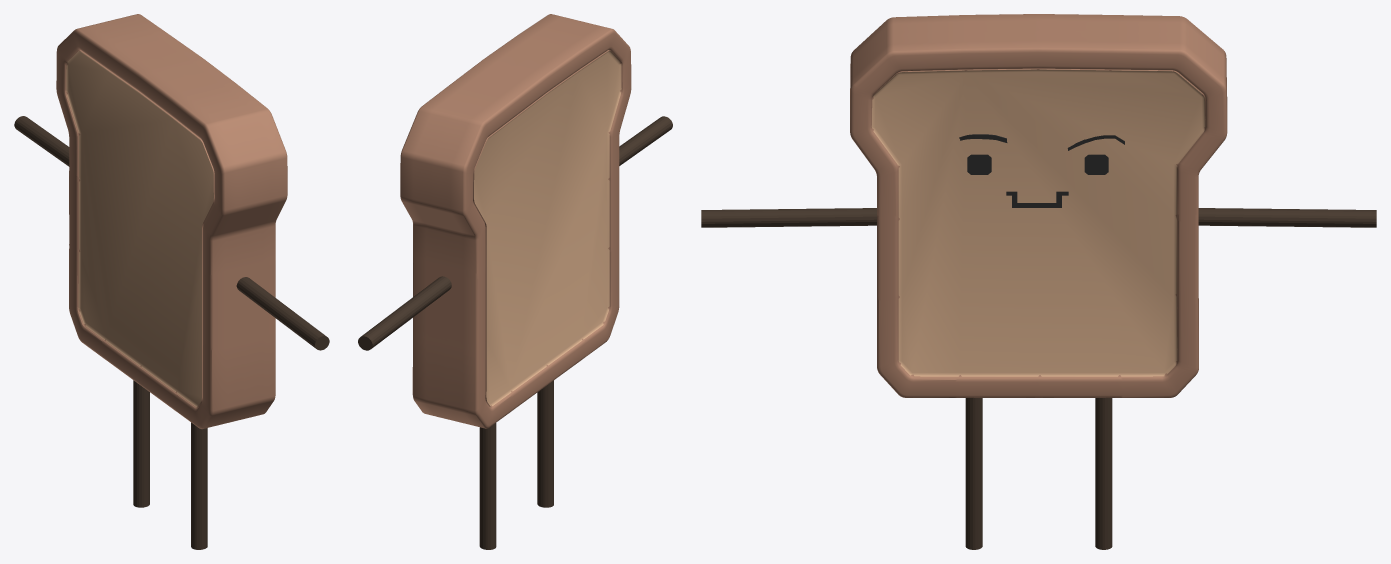
The model's file is tost_a.glb.
3 renders of one model, left to right at view 1: azimuth 30°, elevation 25°; view 2: azimuth 150°, elevation 25°; view 3: azimuth 270°, elevation 25°, orthographic. The views are drawn at different scales.
Parts seen in each view (by area): view 1: tost, Cylinder, Cylinder.001, Cylinder.002; view 2: tost, Cylinder, Cylinder.002, Cylinder.001; view 3: tost, Cylinder, Cylinder.001, Cylinder.002.
Boxes of the visible parts, x1,y1,x2,y2 form: tost: (56, 14, 287, 428); Cylinder: (14, 116, 329, 350); Cylinder.001: (191, 422, 207, 549); Cylinder.002: (133, 380, 149, 507); tost: (400, 14, 631, 428); Cylinder: (358, 116, 672, 350); Cylinder.002: (479, 423, 496, 549); Cylinder.001: (537, 380, 553, 507); tost: (850, 14, 1227, 397); Cylinder: (701, 208, 1376, 227); Cylinder.001: (965, 398, 982, 549); Cylinder.002: (1095, 398, 1112, 549).
Bounding box in the file's own units: 0.3162 × 2.11 × 2.5.
